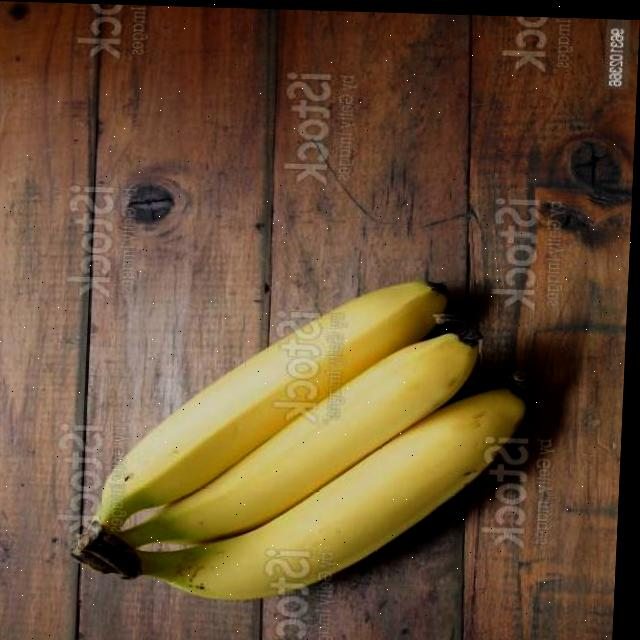banana: (53, 265, 542, 613)
